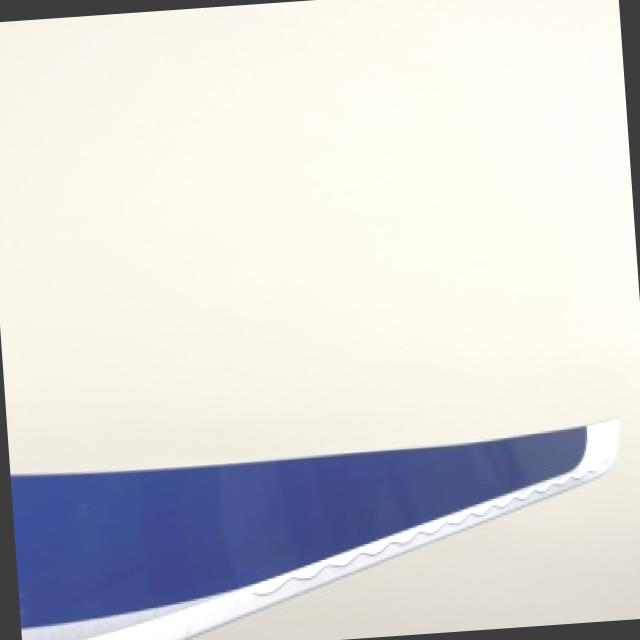healthy: (10, 419, 616, 640)
